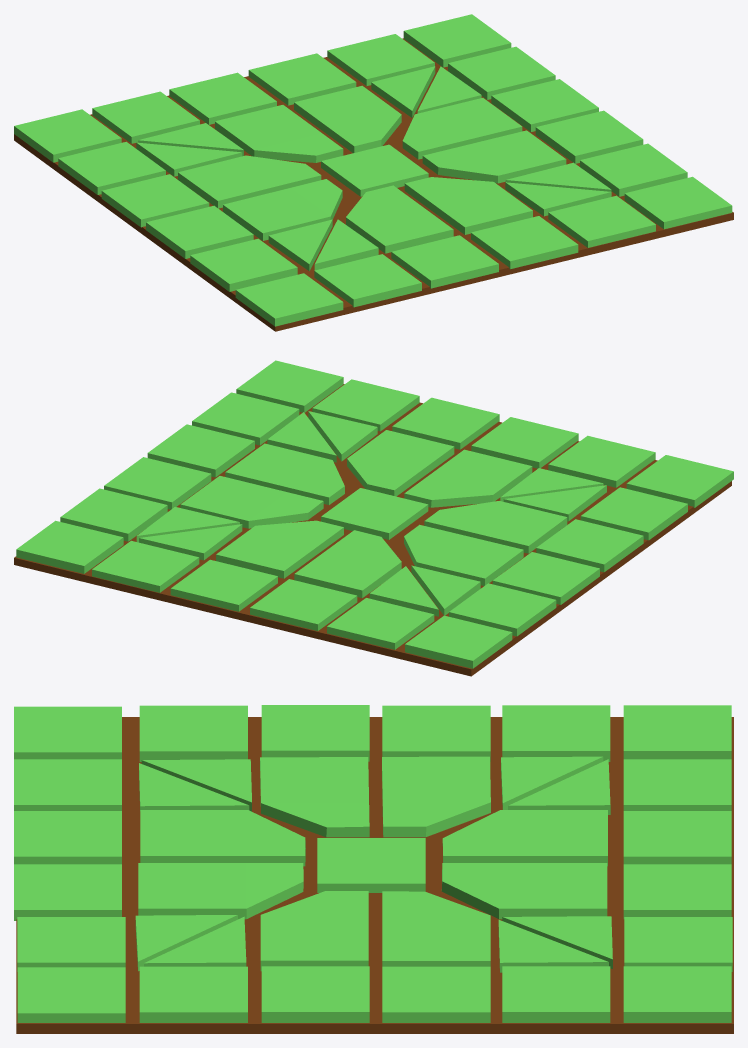
3 renders of one model, top to bottom at view 1: azimuth 30°, elevation 25°; view 2: azimuth 150°, elevation 25°; view 3: azimuth 270°, elevation 25°, orthographic. The views are drawn at different scales.
Visible parts, largest first — view 1: Plano, Parcela 22, Parcela 27, Parcela 23, Parcela 26, Parcela 28, Parcela 24, Parcela 25, Parcela 21, Parcela 16, Parcela 17, Parcela 18 (+26 smaller); view 2: Plano, Parcela 28, Parcela 24, Parcela 21, Parcela 25, Parcela 23, Parcela 27, Parcela 26, Parcela 22, Parcela 6, Parcela 11, Parcela 10 (+26 smaller); view 3: Plano, Parcela 28, Parcela 23, Parcela 26, Parcela 25, Parcela 24, Parcela 27, Parcela 22, Parcela 21, Parcela 3, Parcela 4, Parcela 5 (+26 smaller).
Part boxes in pixels (left/top/right/bottom): Plano: left=14, top=38, right=733, bottom=331; Parcela 22: left=422, top=130, right=566, bottom=183; Parcela 27: left=215, top=105, right=343, bottom=162; Parcela 23: left=404, top=177, right=532, bottom=234; Parcela 26: left=178, top=155, right=321, bottom=208; Parcela 28: left=294, top=85, right=401, bottom=153; Parcela 24: left=346, top=185, right=453, bottom=253; Parcela 25: left=223, top=179, right=342, bottom=240; Parcela 21: left=402, top=98, right=522, bottom=159; Parcela 16: left=235, top=273, right=343, bottom=326; Parcela 17: left=314, top=254, right=421, bottom=307; Parcela 18: left=391, top=235, right=498, bottom=288; Plano: left=14, top=384, right=731, bottom=676; Parcela 28: left=216, top=520, right=343, bottom=578; Parcela 24: left=404, top=449, right=532, bottom=507; Parcela 21: left=180, top=476, right=323, bottom=528; Parcela 25: left=424, top=501, right=567, bottom=553; Parcela 23: left=347, top=430, right=454, bottom=496; Parcela 27: left=294, top=530, right=401, bottom=598; Parcela 26: left=404, top=524, right=523, bottom=585; Parcela 22: left=225, top=443, right=344, bottom=504; Parcela 6: left=16, top=520, right=123, bottom=573; Parcela 11: left=405, top=615, right=512, bottom=668; Parcela 10: left=327, top=598, right=434, bottom=649; Plano: left=16, top=717, right=733, bottom=1033; Parcela 28: left=441, top=863, right=607, bottom=919; Parcela 23: left=138, top=863, right=303, bottom=919; Parcela 26: left=382, top=756, right=490, bottom=837; Parcela 25: left=260, top=757, right=369, bottom=837; Parcela 24: left=140, top=810, right=305, bottom=866; Parcela 27: left=442, top=810, right=607, bottom=866; Parcela 22: left=260, top=891, right=368, bottom=971; Parcela 21: left=382, top=891, right=490, bottom=966; Parcela 3: left=261, top=966, right=369, bottom=1022; Parcela 4: left=382, top=966, right=490, bottom=1022; Parcela 5: left=502, top=966, right=610, bottom=1022.
Size of the model in its own units: 67.37 by 2.16 by 66.56.
